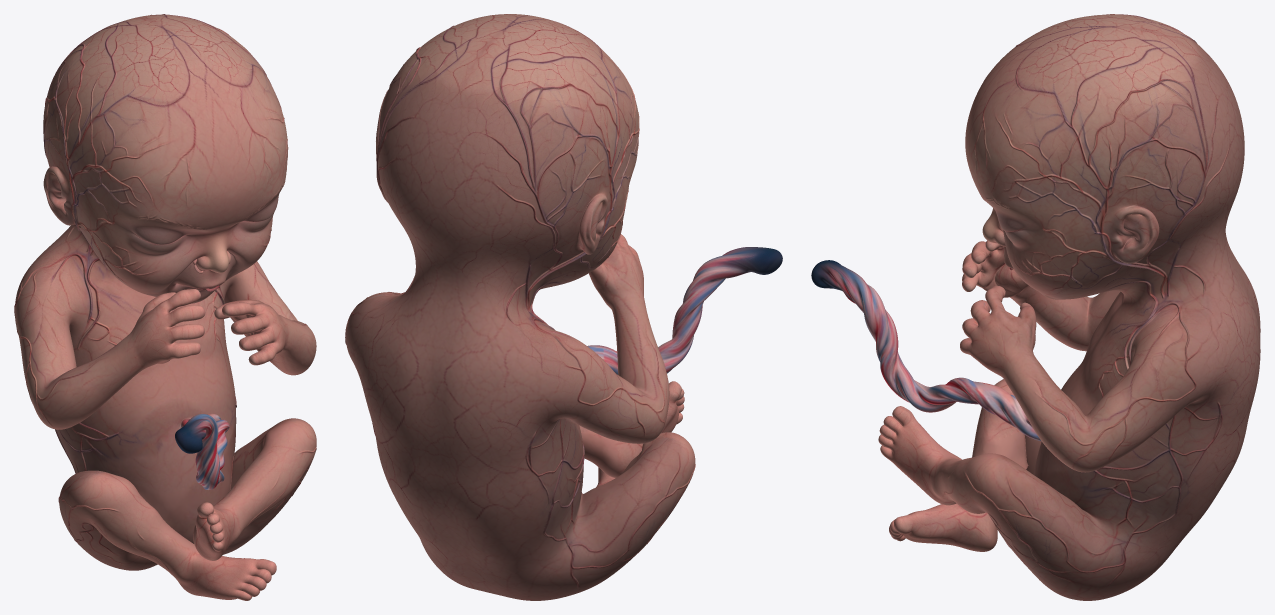
Rendered from stade-06.glb.
The picture shows the model from 3 angles, left to right: view 1: azimuth 30°, elevation 25°; view 2: azimuth 150°, elevation 25°; view 3: azimuth 270°, elevation 25°; orthographic projection. The views are drawn at different scales.
Size of the model in its own units: 1.02 by 1.9 by 1.4.
Materials: 1 (1 with a texture image).
